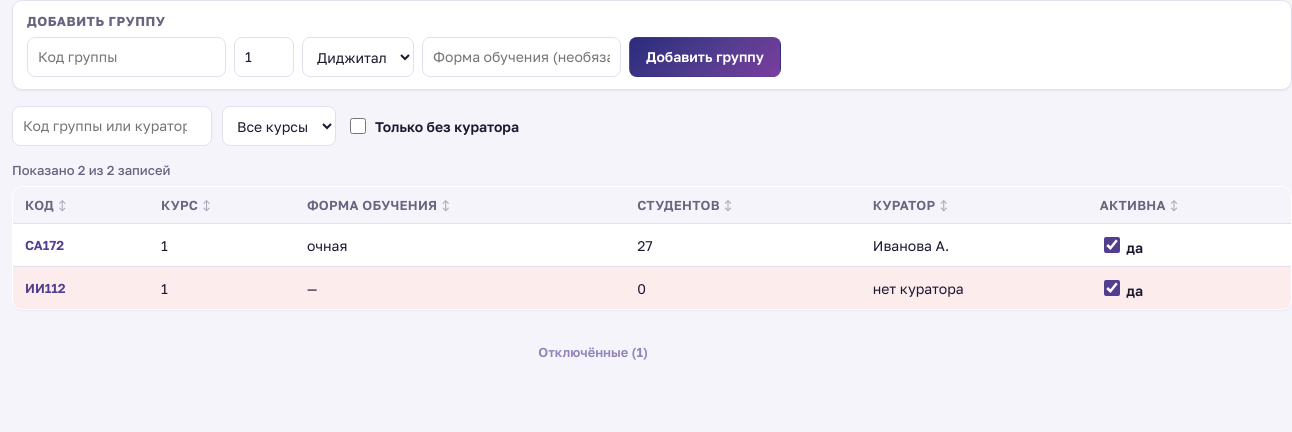
GroupsTab — список › переключатель «Активна» отключает группу сразу из списка и сообщает, что она выпала из свода
Expected: the button "СА172" is shown, [21, 235, 68, 255]
Click the switch named "Активна: СА172".
click(1112, 245)  # box [1104, 237, 1120, 253]
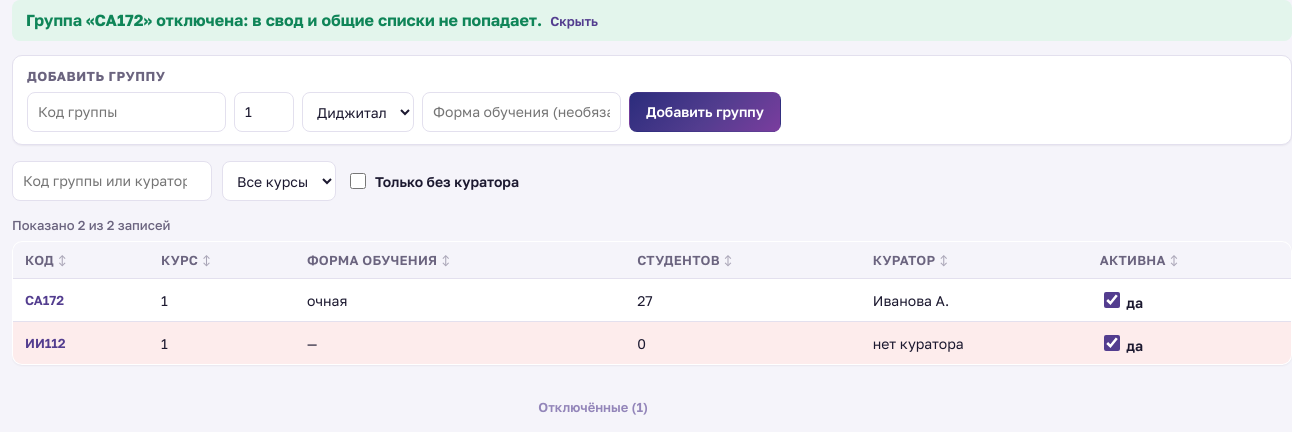
Now the text "Группа «СА172» отключена: в свод и общие списки не попадает" is shown, box [26, 10, 542, 30]
